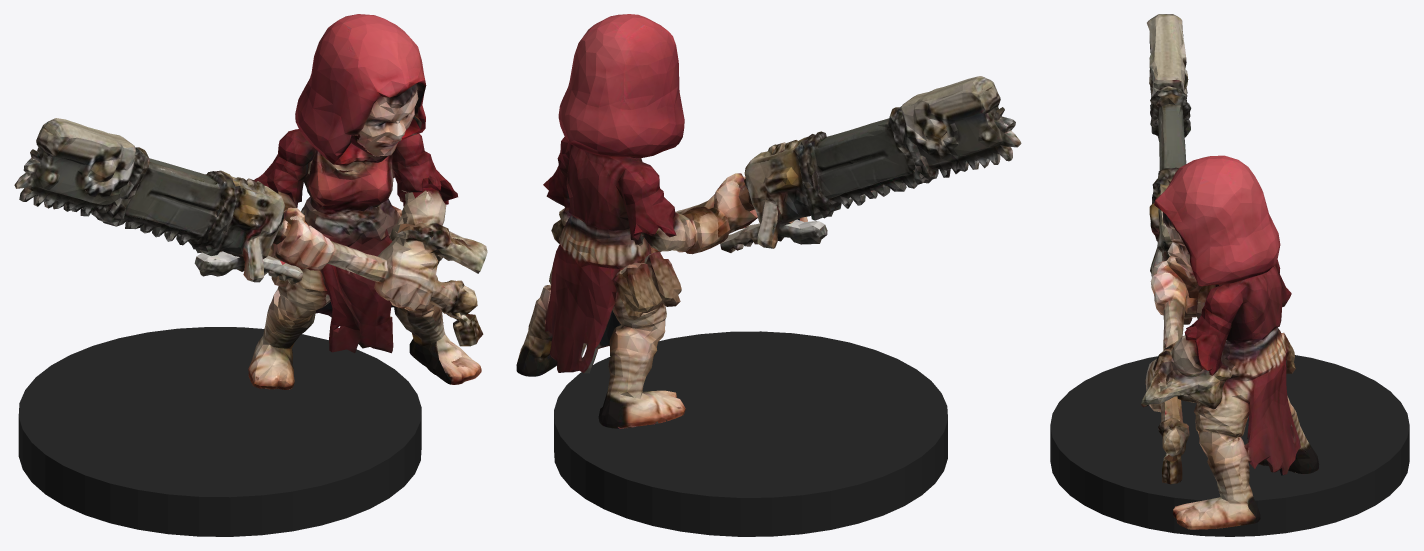
Rendered from sister-repentia.glb.
3 renders of one model, left to right at view 1: azimuth 30°, elevation 25°; view 2: azimuth 150°, elevation 25°; view 3: azimuth 270°, elevation 25°, orthographic. The views are drawn at different scales.
Visible parts, largest first — view 1: figure, base; view 2: figure, base; view 3: figure, base.
Boxes of the visible parts, <box> form: figure: <box>14,14,487,389</box>; base: <box>18,327,421,536</box>; figure: <box>516,14,1021,428</box>; base: <box>554,331,947,536</box>; figure: <box>1141,14,1318,529</box>; base: <box>1050,355,1409,536</box>.
Bounding box in the file's own units: 1.51 × 1.22 × 1.1.
Materials: 2 (1 with a texture image).
